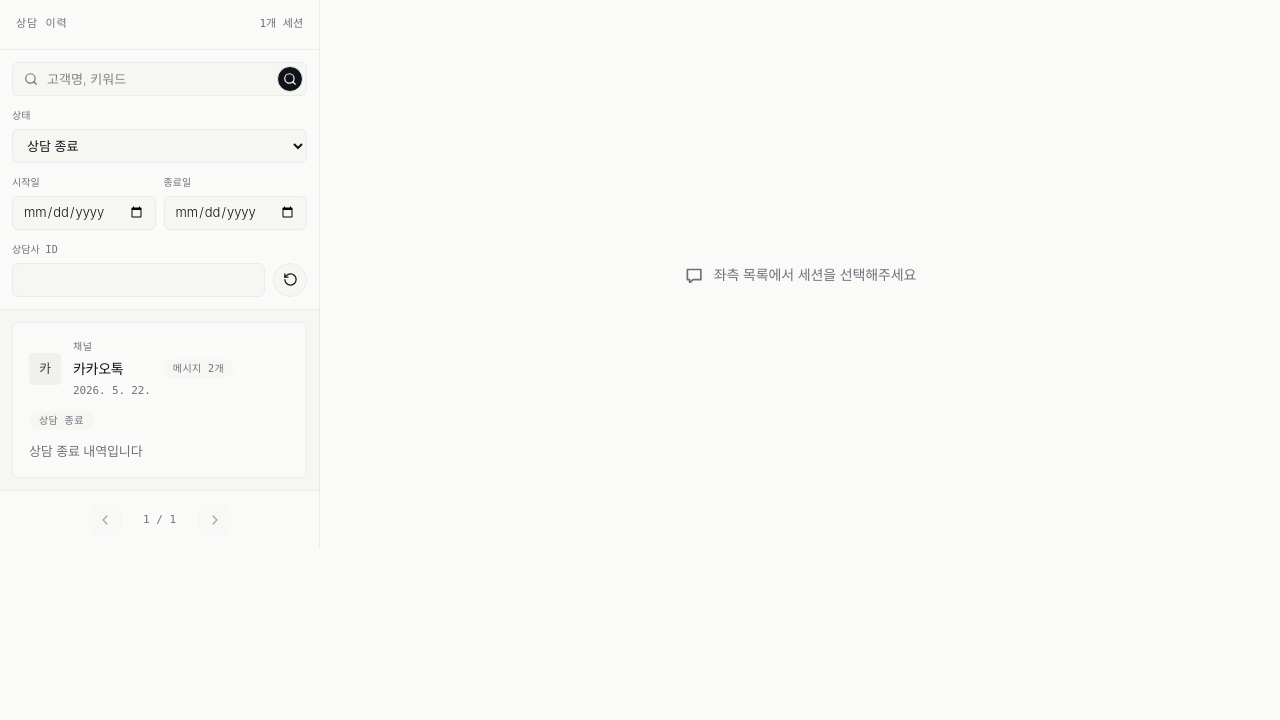
Test: ChatHistoryPage › AI와 내부 메모 역할을 한국어 라벨로 표시한다
Click the button "카 채널 카카오톡 2026. 5. 22. 메시지 2개 상담 종료 상담 종료 내역입니다" at x=45, y=369, box [12, 322, 307, 478]
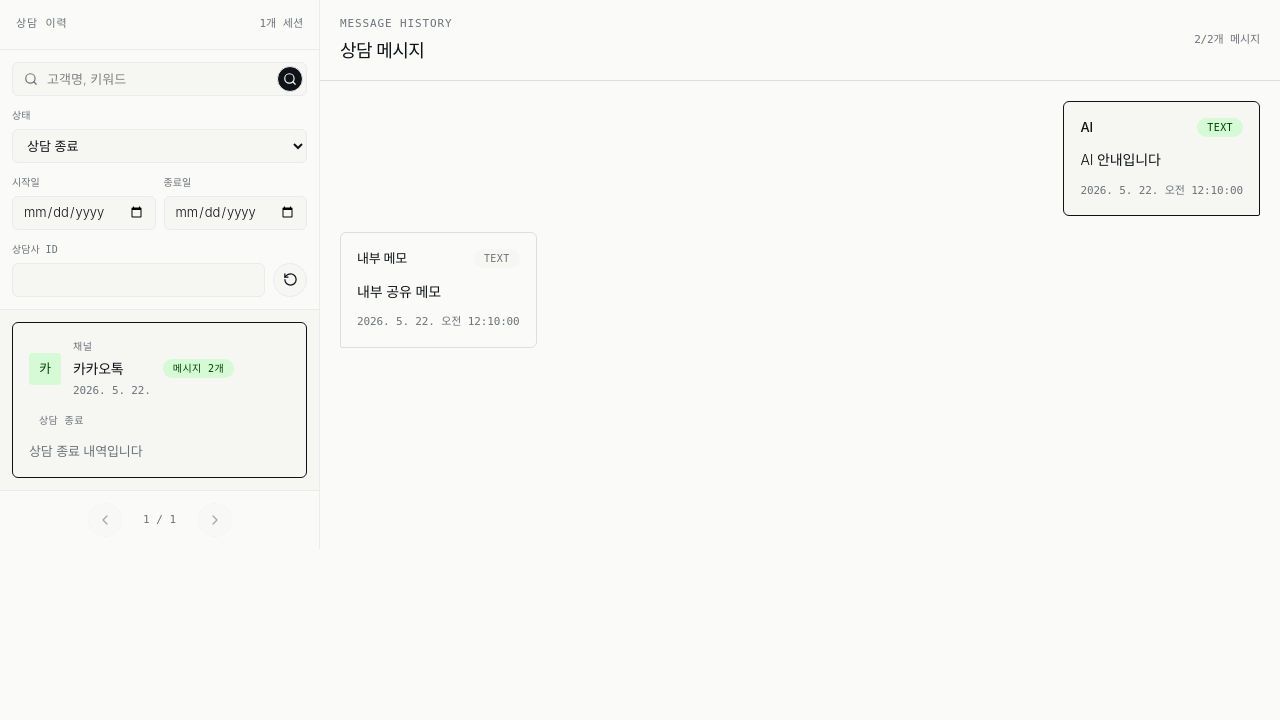
Result: the text "AI" is shown at [1080, 118, 1093, 137]
Result: the text "내부 메모" is shown at [357, 249, 407, 269]
Result: the text "AI 안내입니다" is shown at [1080, 151, 1161, 168]
